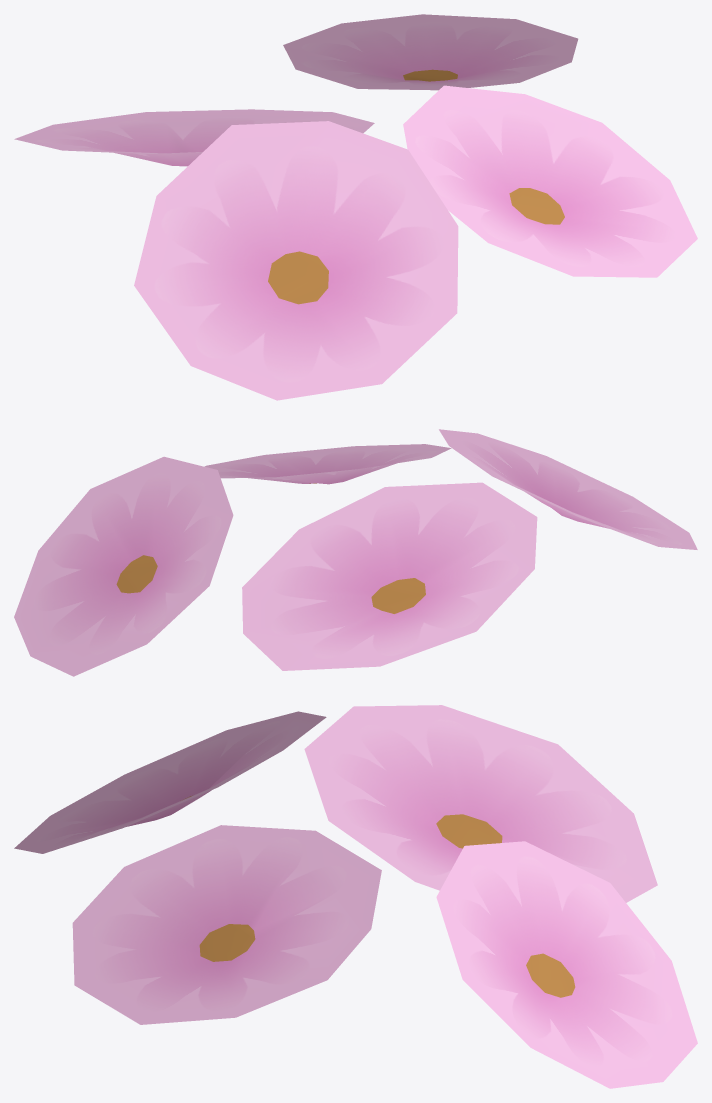
The model's file is SM_Pink_Flower.fbx.
3 renders of one model, top to bottom at view 1: azimuth 30°, elevation 25°; view 2: azimuth 150°, elevation 25°; view 3: azimuth 270°, elevation 25°, orthographic. The views are drawn at different scales.
Visible parts, largest first — view 1: SM_Pink_Flower_LOD0; view 2: SM_Pink_Flower_LOD0; view 3: SM_Pink_Flower_LOD0.
Boxes of the visible parts, x1,y1,x2,y2 form: SM_Pink_Flower_LOD0: (14,14,697,400); SM_Pink_Flower_LOD0: (14,429,697,676); SM_Pink_Flower_LOD0: (14,705,697,1088).
Bounding box in the file's own units: 28.47 × 29.09 × 8.6.
